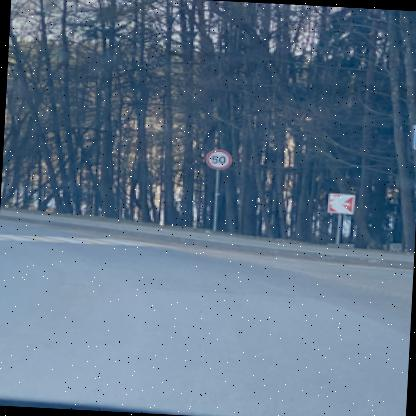crosswalk: (410, 122, 415, 149)
speedlimit: (202, 148, 227, 166)
